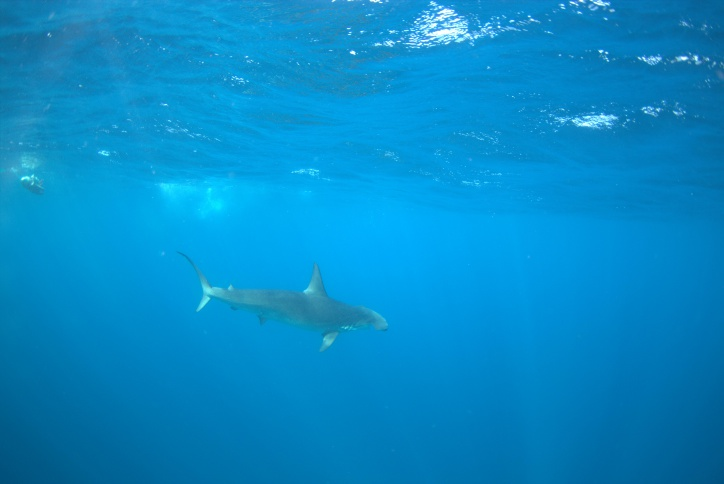Hammer: (174, 233, 405, 367)
